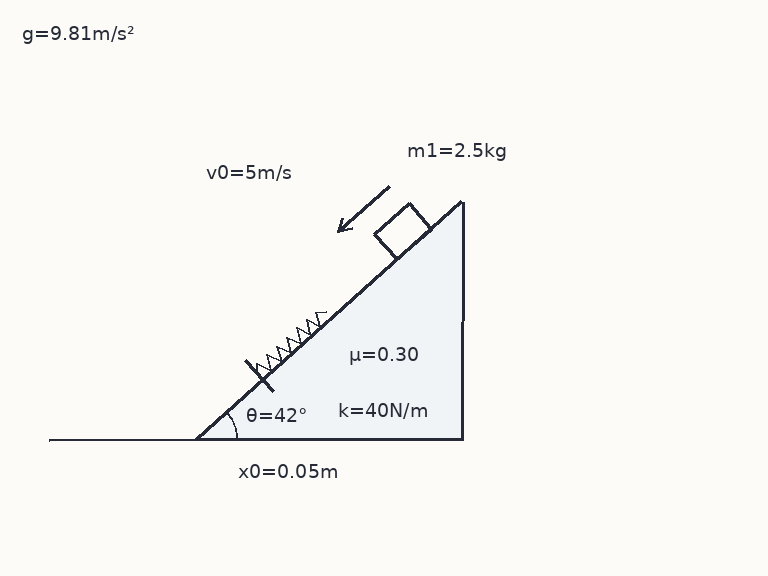block: (372, 201, 433, 261)
ramp: (195, 199, 464, 441)
spring: (255, 308, 328, 375)
